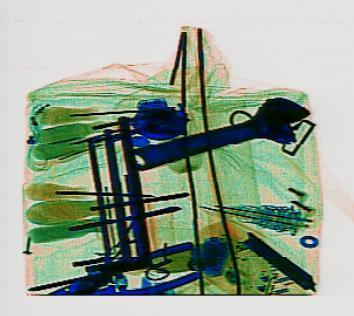Pliers: (45, 239, 204, 315)
Wrench: (119, 88, 318, 185)
